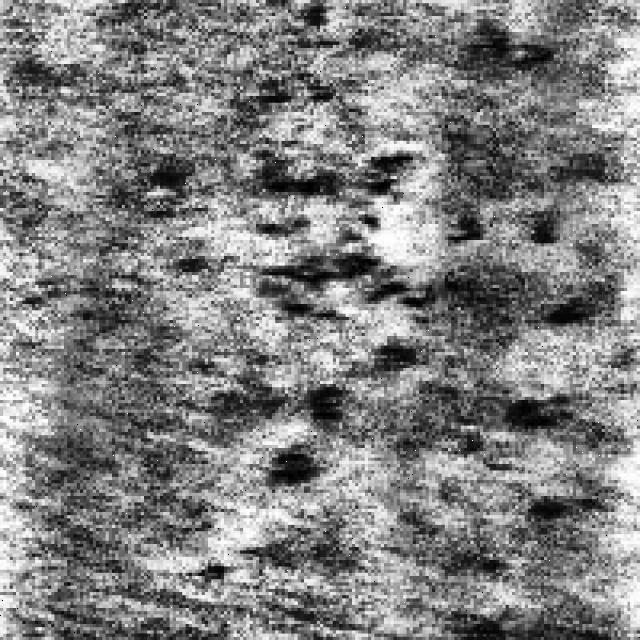Crazing: (234, 112, 461, 490), (451, 202, 595, 528)
